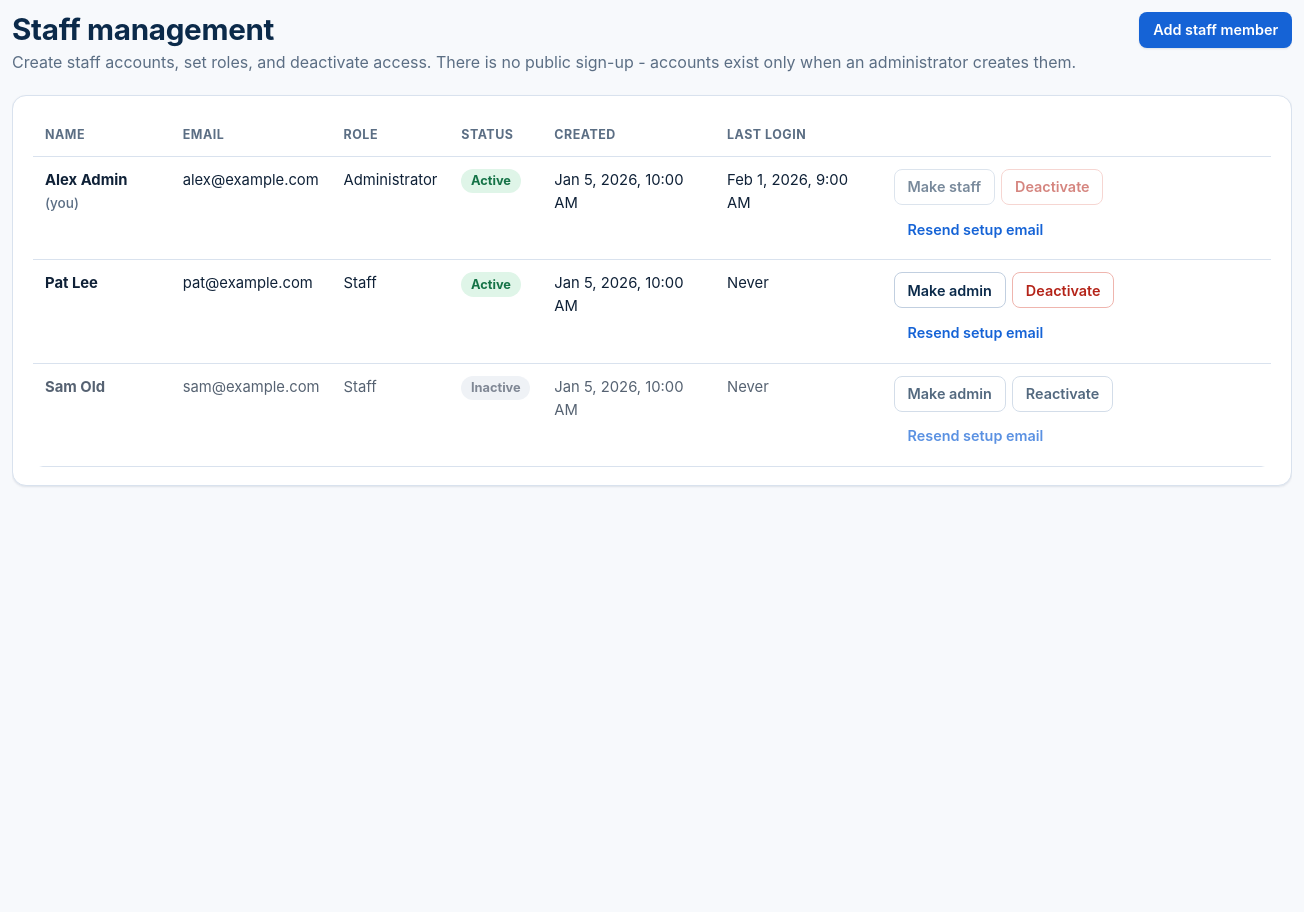
Test: staff management (admin only page) › keeps the new account but offers a resend when the setup email fails
The image size is (1304, 912).
expect the text "Pat Lee" is shown: met, box [45,274,98,292]
Click the button "Add staff member" at (1216, 30), box [1139,12,1292,48]
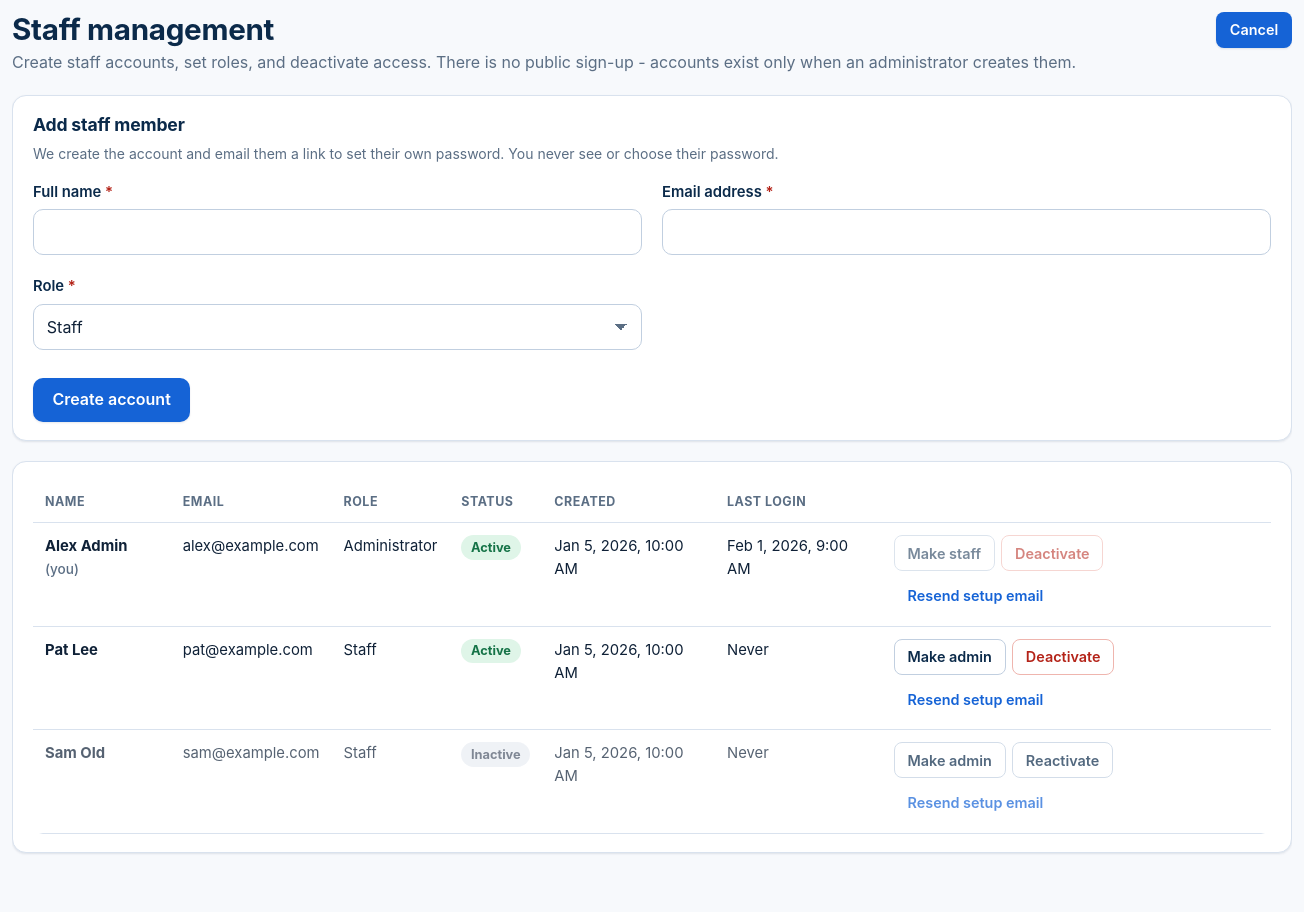
Type "Jo Nguyen" into the field labelled "Full name *" at (338, 232), box [33,209,642,255]
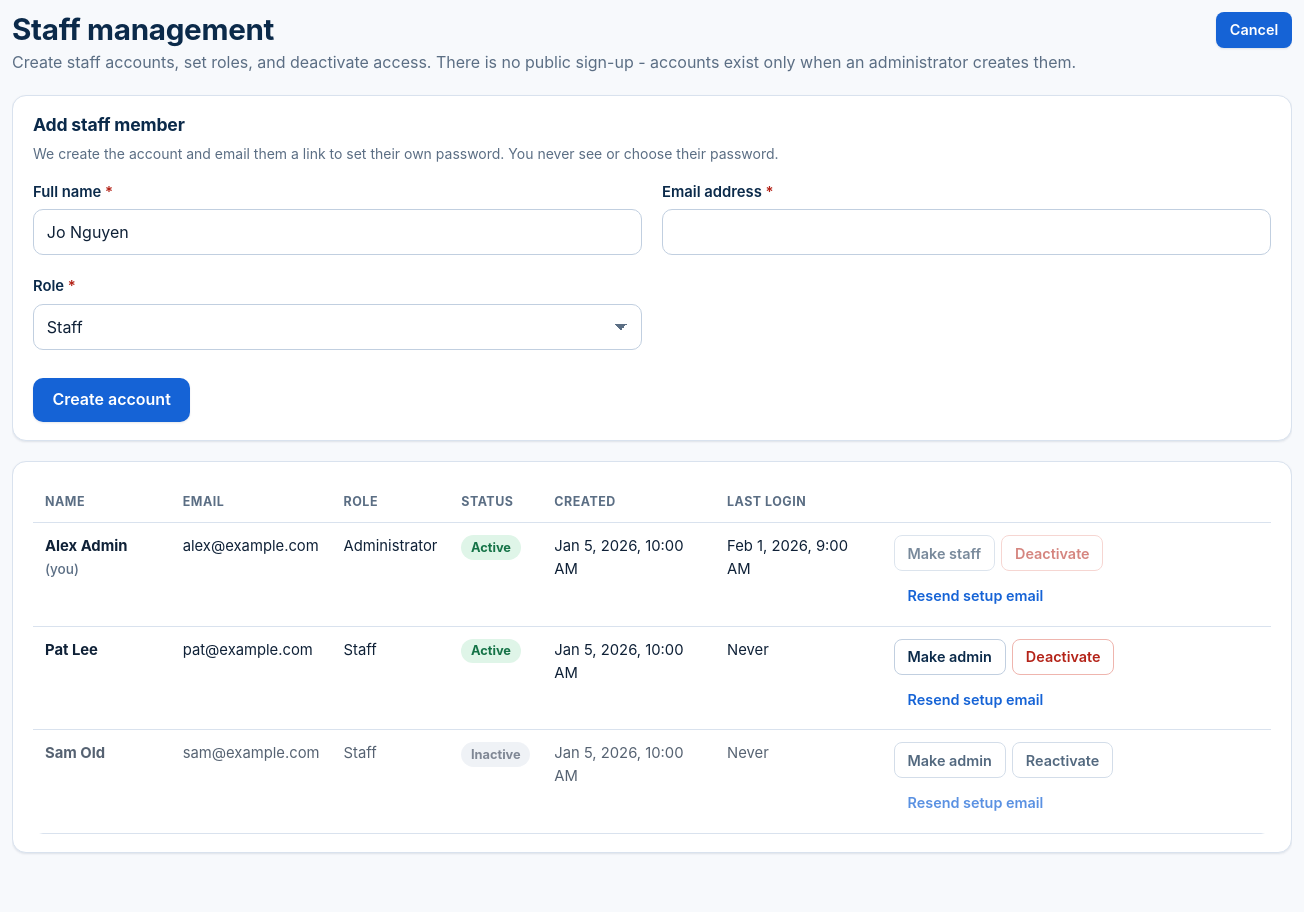
Type "jo@example.com" into the field labelled "Email address *" at (966, 232), box [662,209,1271,255]
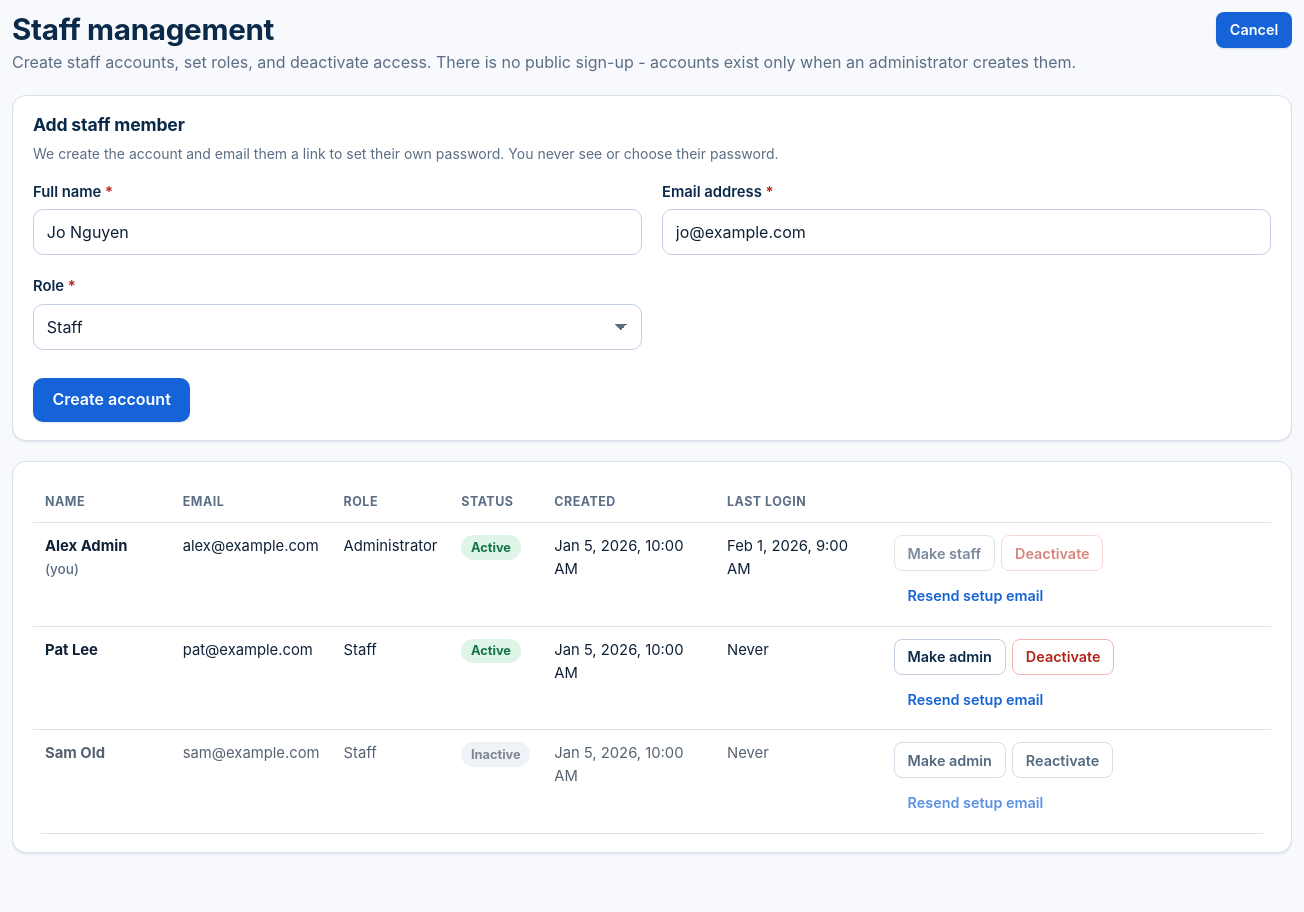
Click the button "Create account" at (112, 400), box [33,378,190,422]
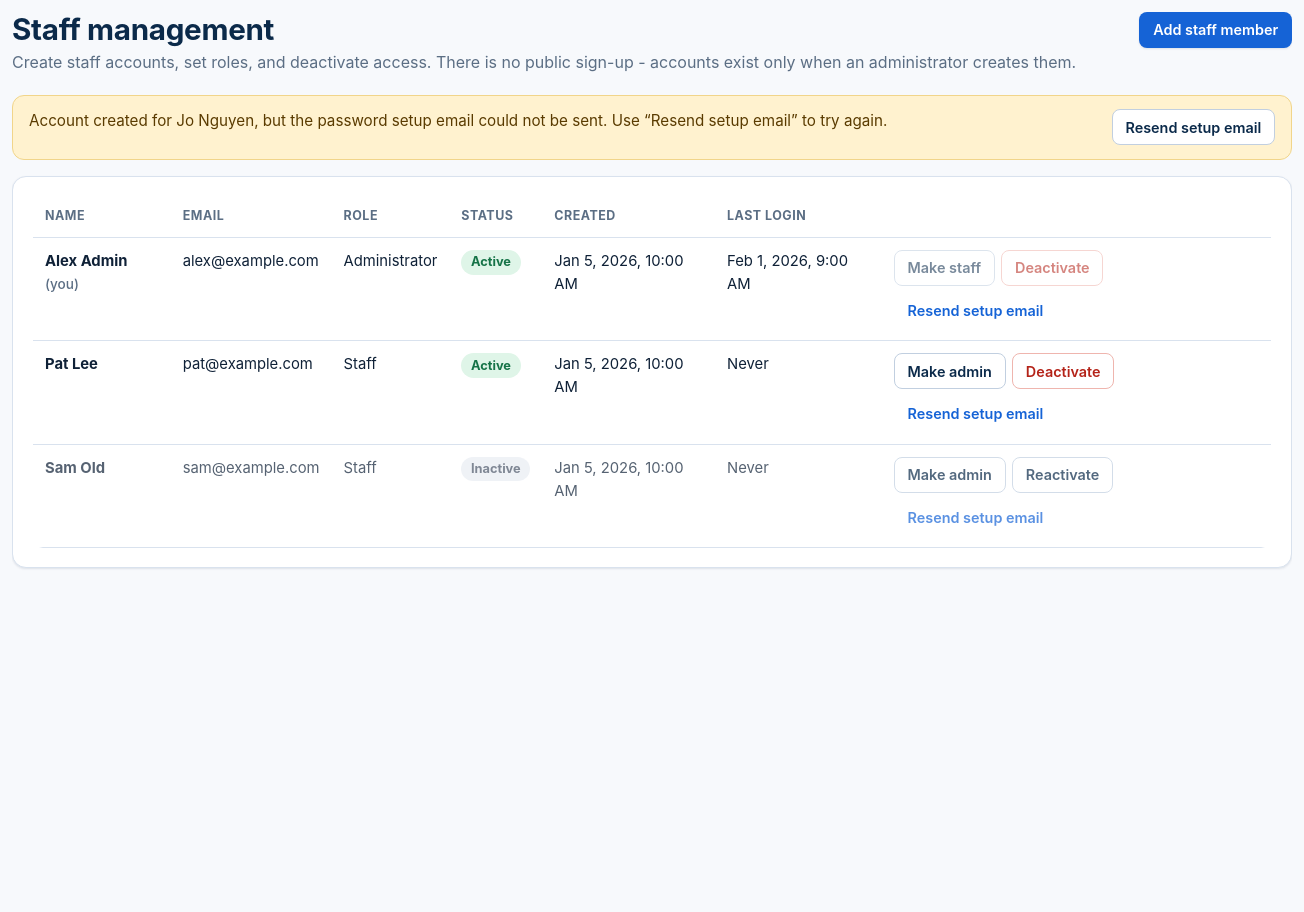
expect the text "could not be sent" is shown: met, box [29,111,887,130]
Click the 1st button "Resend setup email" at (1193, 127), box [1112,109,1275,145]
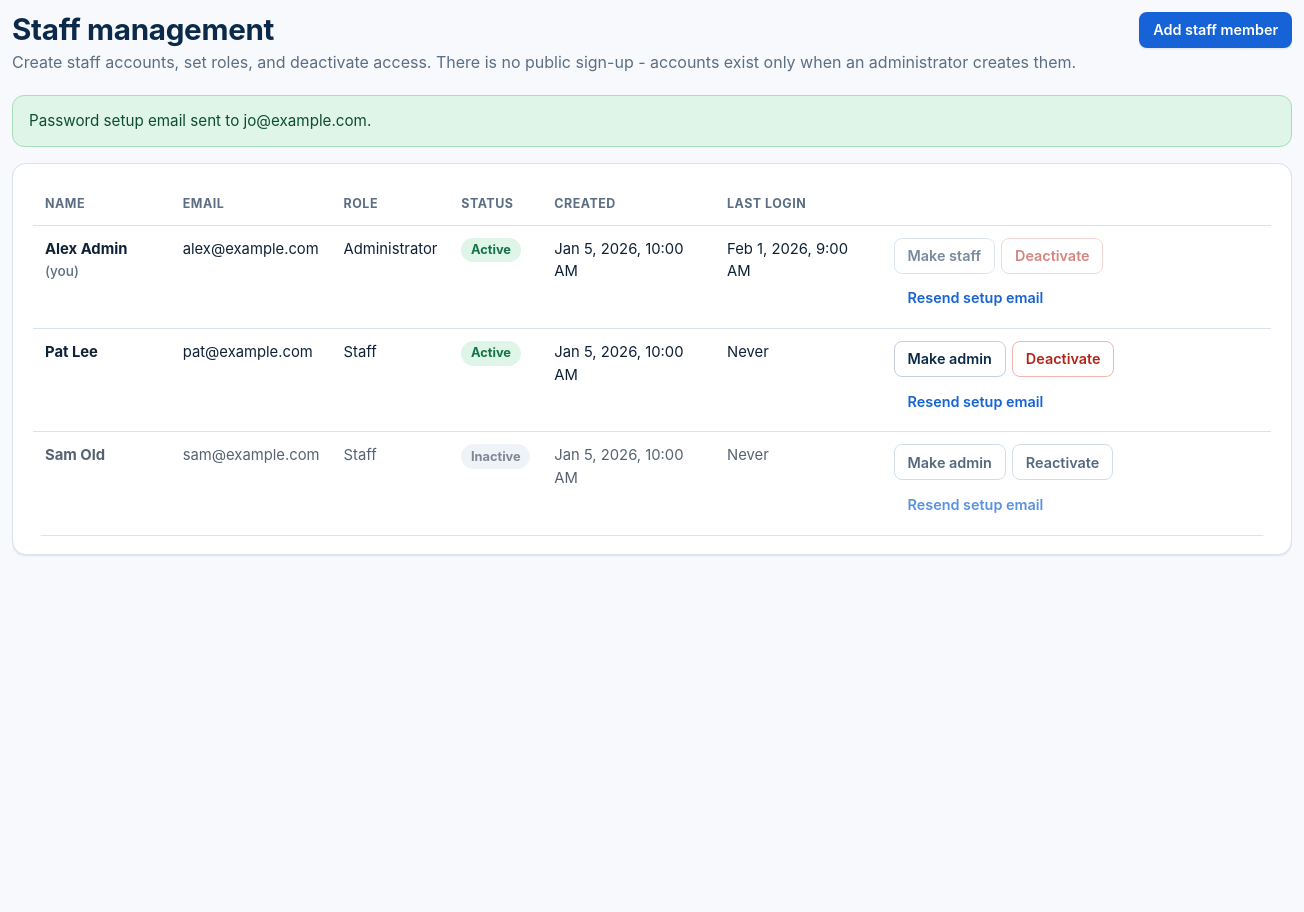
expect the text "Password setup email sent to jo@example.com." is shown: met, box [29,109,371,133]
